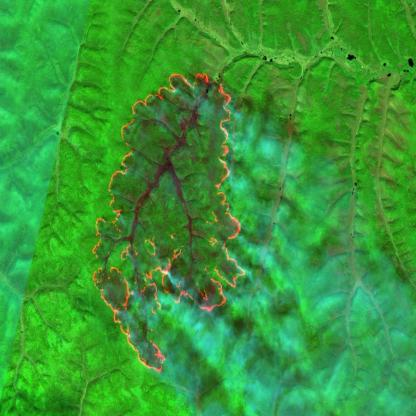fire: (89, 62, 250, 382)
